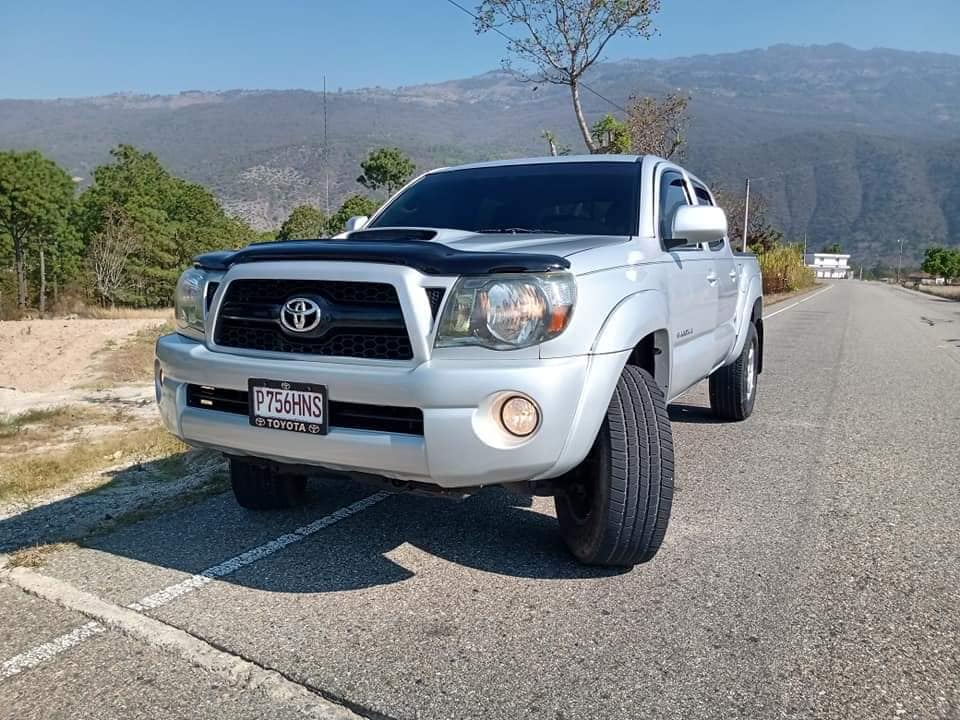pickup: (160, 158, 773, 575)
